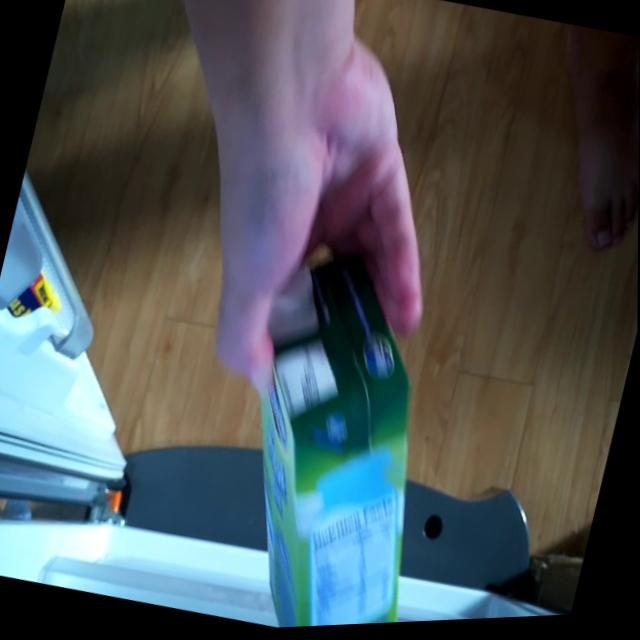milk: (203, 235, 486, 633)
